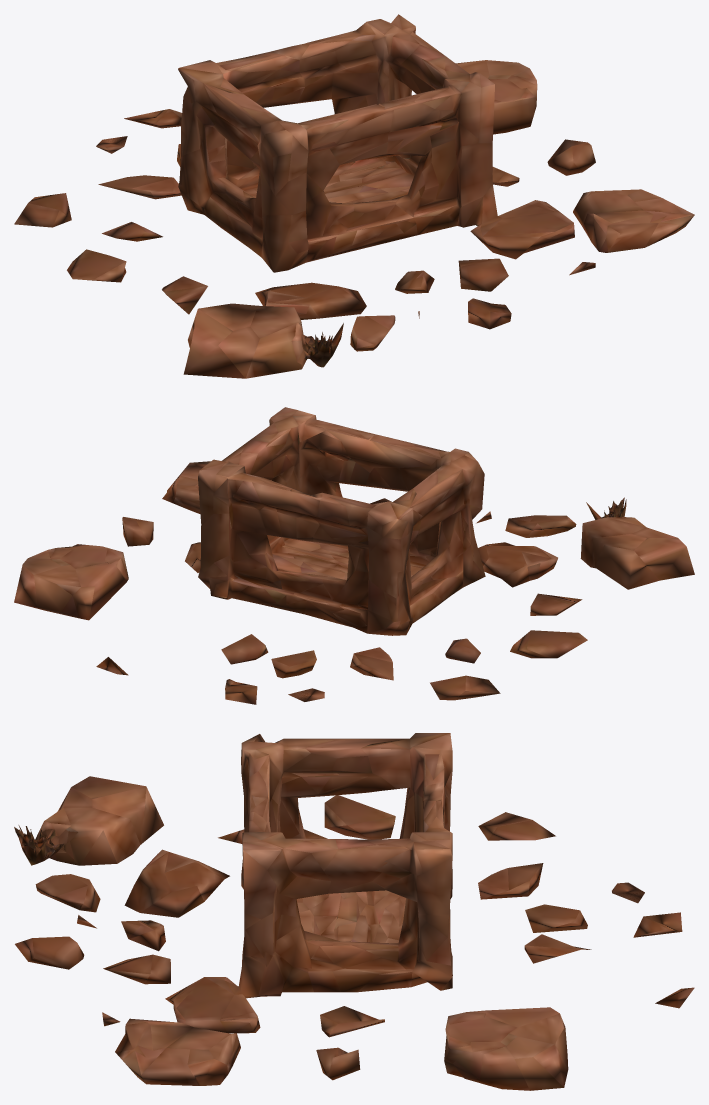
Rendered from crate.glb.
3 renders of one model, top to bottom at view 1: azimuth 30°, elevation 25°; view 2: azimuth 150°, elevation 25°; view 3: azimuth 270°, elevation 25°, orthographic. The views are drawn at different scales.
Bounding box in the file's own units: 1.9 × 0.4899 × 1.9.
Materials: 1 (1 with a texture image).
